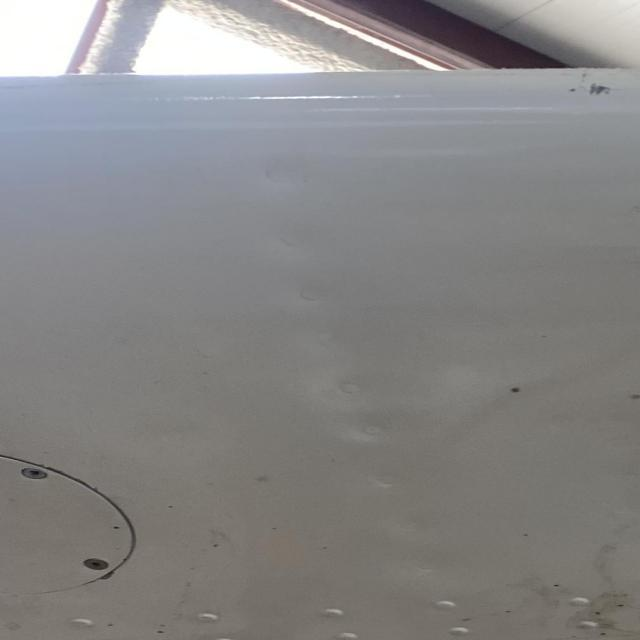Paint-off: (571, 76, 618, 99)
